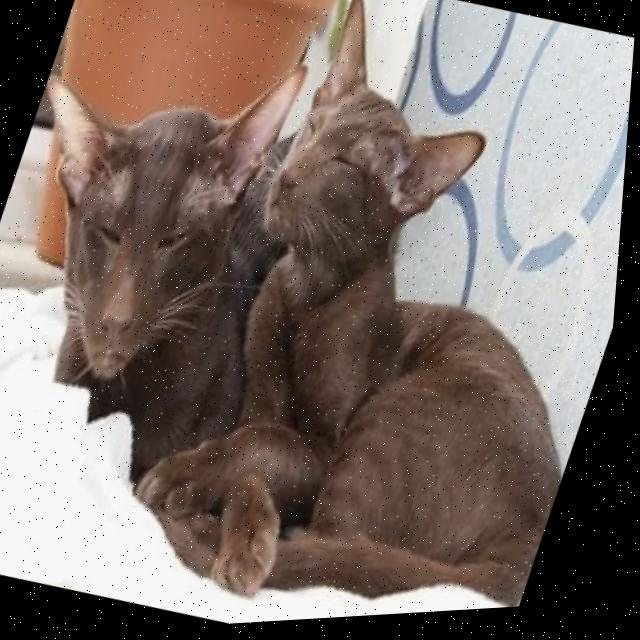Oriental: (138, 0, 640, 632), (0, 0, 327, 509)
